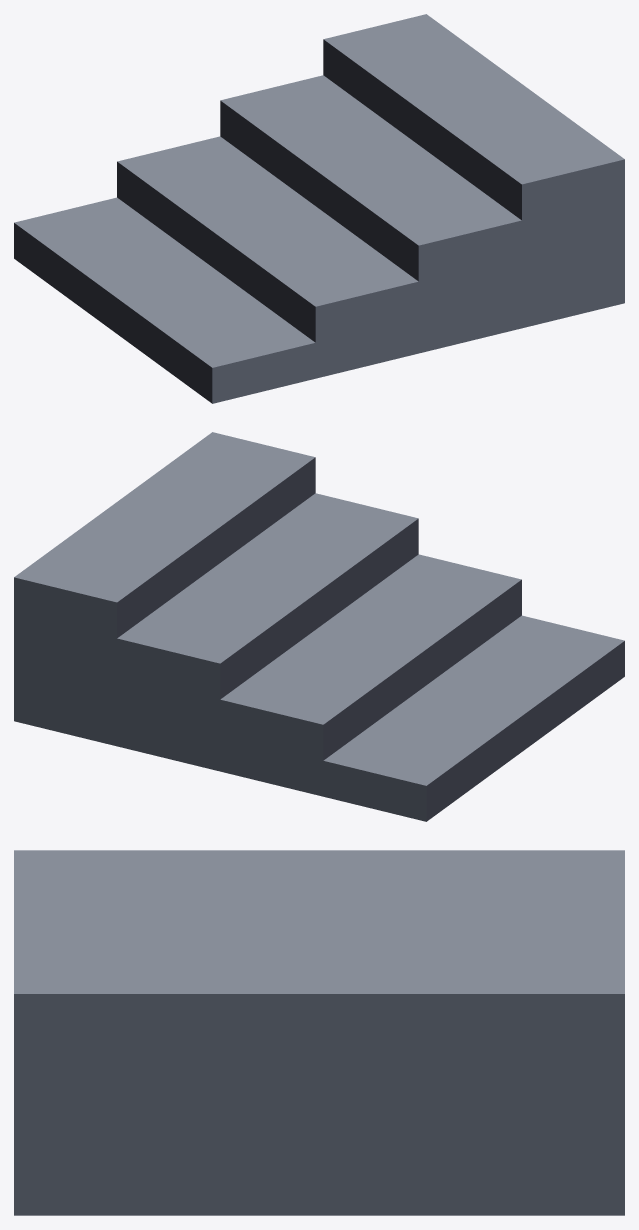
File: TW_STEPS_WIDE4_A_LOD0.glb
The picture shows the model from 3 angles, top to bottom: view 1: azimuth 30°, elevation 25°; view 2: azimuth 150°, elevation 25°; view 3: azimuth 270°, elevation 25°; orthographic projection. The views are drawn at different scales.
Parts seen in each view (by area): view 1: TW_STEPS_WIDE4_A_LOD0; view 2: TW_STEPS_WIDE4_A_LOD0; view 3: TW_STEPS_WIDE4_A_LOD0.
Boxes of the visible parts, x1=… form: TW_STEPS_WIDE4_A_LOD0: x1=14, y1=14, x2=624, y2=403; TW_STEPS_WIDE4_A_LOD0: x1=14, y1=432, x2=624, y2=821; TW_STEPS_WIDE4_A_LOD0: x1=14, y1=850, x2=624, y2=1215.
Bounding box in the file's own units: 1.8 × 0.6 × 1.5.
1 material, 1 textured.
